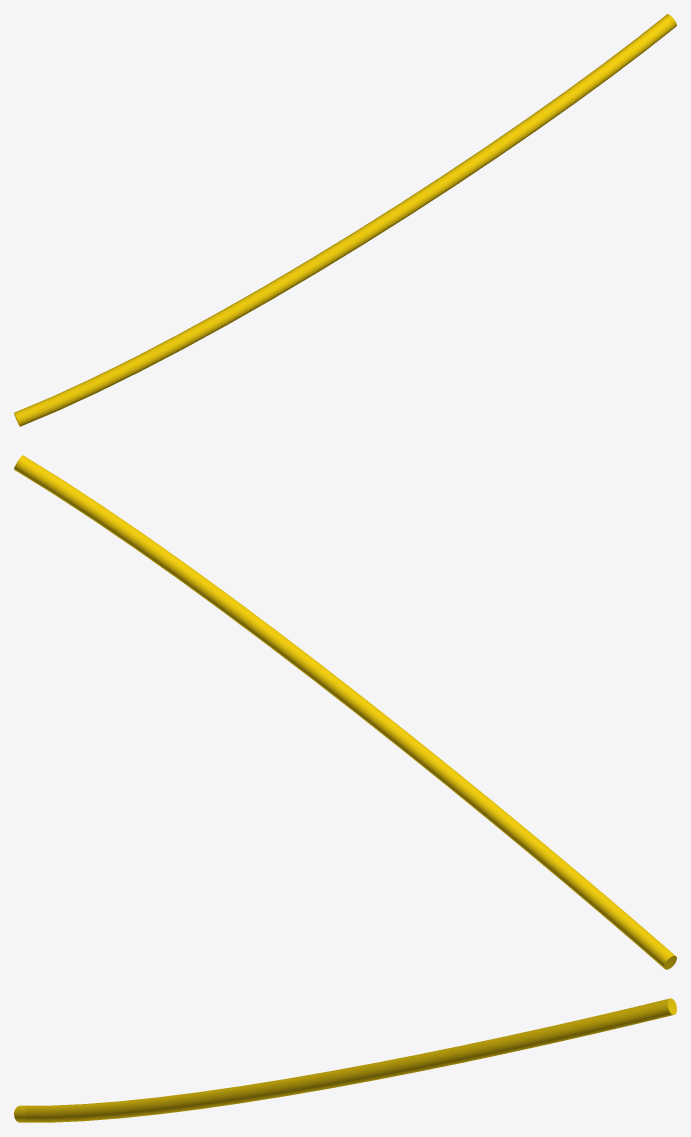
Rendered from Event_421115418_track_80.fbx.
3 views of the same model, one above another, from view 1: azimuth 30°, elevation 25°; view 2: azimuth 150°, elevation 25°; view 3: azimuth 330°, elevation 25° (orthographic). The views are drawn at different scales.
Visible parts, largest first — view 1: Model; view 2: Model; view 3: Model.
Part boxes in pixels (x1,y1,x2,y2): Model: (14,14,676,426); Model: (14,455,676,969); Model: (14,998,676,1122).
Bounding box in the file's own units: 1.88 × 0.8209 × 0.2378.
